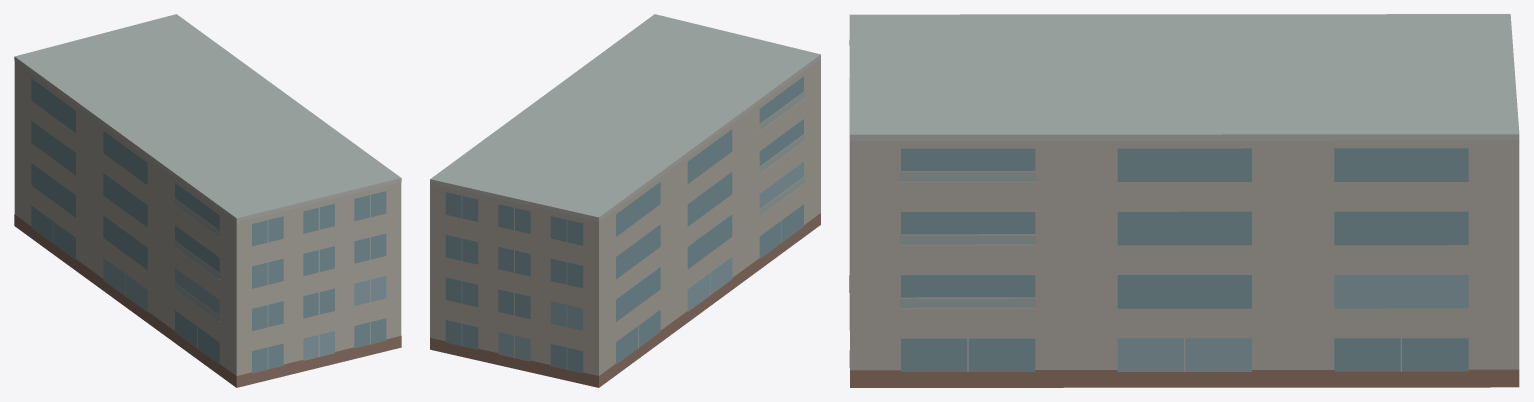
Rendered from survey-upis-32706656.glb.
The picture shows the model from 3 angles, left to right: view 1: azimuth 30°, elevation 25°; view 2: azimuth 150°, elevation 25°; view 3: azimuth 270°, elevation 25°; orthographic projection. The views are drawn at different scales.
Visible parts, largest first — view 1: survey-upis-32706656.tmp; view 2: survey-upis-32706656.tmp; view 3: survey-upis-32706656.tmp.
Boxes of the visible parts, x1,y1,x2,y2 form: survey-upis-32706656.tmp: (14, 14, 401, 387); survey-upis-32706656.tmp: (430, 14, 820, 387); survey-upis-32706656.tmp: (849, 14, 1519, 387).
Bounding box in the file's own units: 10.37 × 10.1 × 24.24.
